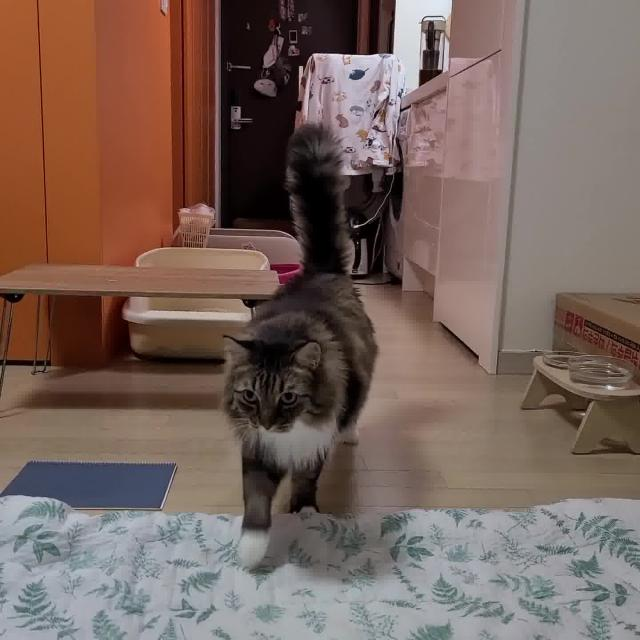cat: (215, 125, 381, 582)
